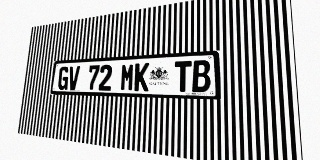2: (98, 64, 112, 91)
7: (86, 65, 100, 90)
B: (192, 60, 210, 92)
G: (57, 66, 69, 90)
K: (134, 63, 149, 91)
M: (120, 63, 135, 91)
T: (174, 61, 191, 92)
V: (67, 66, 80, 90)
